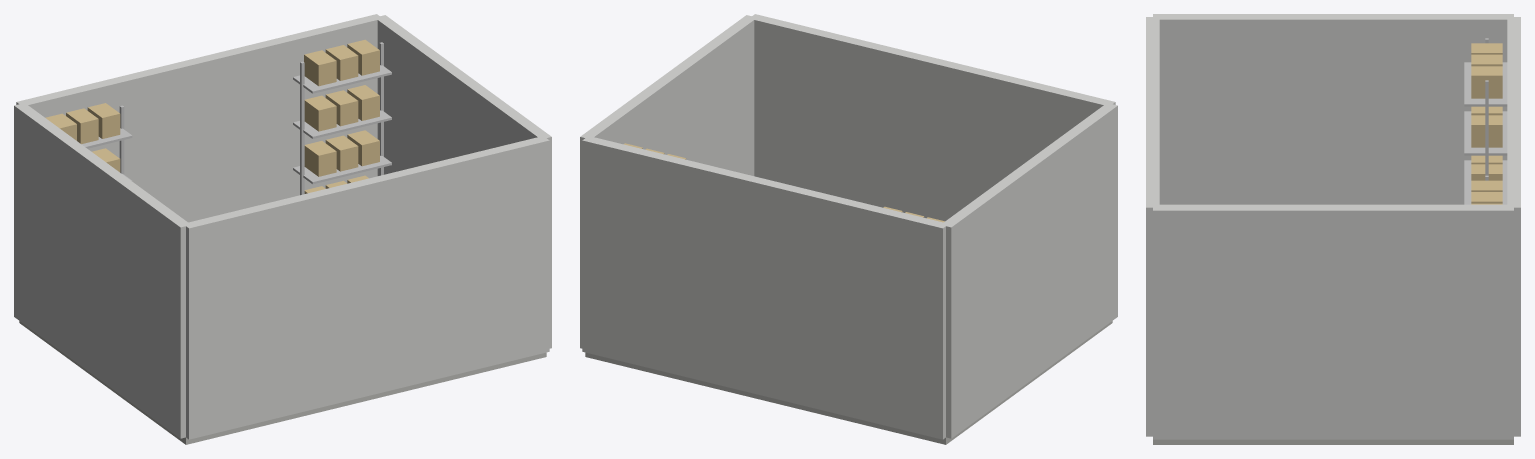
Rendered from room-reserve.glb.
The picture shows the model from 3 angles, left to right: view 1: azimuth 30°, elevation 25°; view 2: azimuth 150°, elevation 25°; view 3: azimuth 270°, elevation 25°; orthographic projection. The views are drawn at different scales.
Parts seen in each view (by area): view 1: WallFront, WallLeft, WallBack, WallRight, Floor, Box_1.8_1.7_-0.3, Box_1.8_2.3_-0.3, Box_1.8_1.1_-0.3, Box_-1.8_2.3_0.3, Box_1.8_1.1_0.0, Box_1.8_1.7_0.0, Box_1.8_2.3_0.0 (+8 smaller); view 2: WallBack, WallFront, WallLeft, WallRight, Floor; view 3: WallRight, WallLeft, WallBack, WallFront, Floor, Box_-1.8_2.3_0.3, Box_-1.8_1.7_0.3, Plank_-1.8_1.7, Plank_-1.8_2.3, Plank_-1.8_1.1, Box_-1.8_1.1_0.3, Box_-1.8_2.3_0.0 (+4 smaller).
Boxes of the visible parts, x1,y1,x2,y2 form: WallFront: (186, 137, 549, 439); WallLeft: (14, 104, 190, 438); WallBack: (16, 14, 382, 222); WallRight: (376, 15, 551, 348); Floor: (19, 321, 546, 444); Box_1.8_1.7_-0.3: (304, 95, 336, 131); Box_1.8_2.3_-0.3: (304, 50, 336, 86); Box_1.8_1.1_-0.3: (304, 141, 336, 176); Box_-1.8_2.3_0.3: (87, 103, 120, 138); Box_1.8_1.1_0.0: (325, 135, 358, 171); Box_1.8_1.7_0.0: (325, 90, 358, 126); Box_1.8_2.3_0.0: (325, 45, 358, 80); WallBack: (582, 137, 947, 439); WallFront: (749, 14, 1115, 221); WallLeft: (941, 104, 1117, 438); WallRight: (580, 15, 756, 348); Floor: (585, 321, 1112, 444); WallRight: (1153, 204, 1513, 439); WallLeft: (1153, 14, 1513, 204); WallBack: (1507, 17, 1520, 436); WallFront: (1146, 17, 1159, 436); Floor: (1153, 439, 1513, 444); Box_-1.8_2.3_0.3: (1471, 66, 1502, 98); Box_-1.8_1.7_0.3: (1471, 115, 1502, 147); Plank_-1.8_1.7: (1464, 111, 1507, 155); Plank_-1.8_2.3: (1464, 62, 1507, 106); Plank_-1.8_1.1: (1464, 160, 1507, 199); Box_-1.8_1.1_0.3: (1471, 164, 1502, 180); Box_-1.8_2.3_0.0: (1471, 54, 1502, 66).
Bounding box in the file's own units: 5.15 × 2.9 × 4.15.
